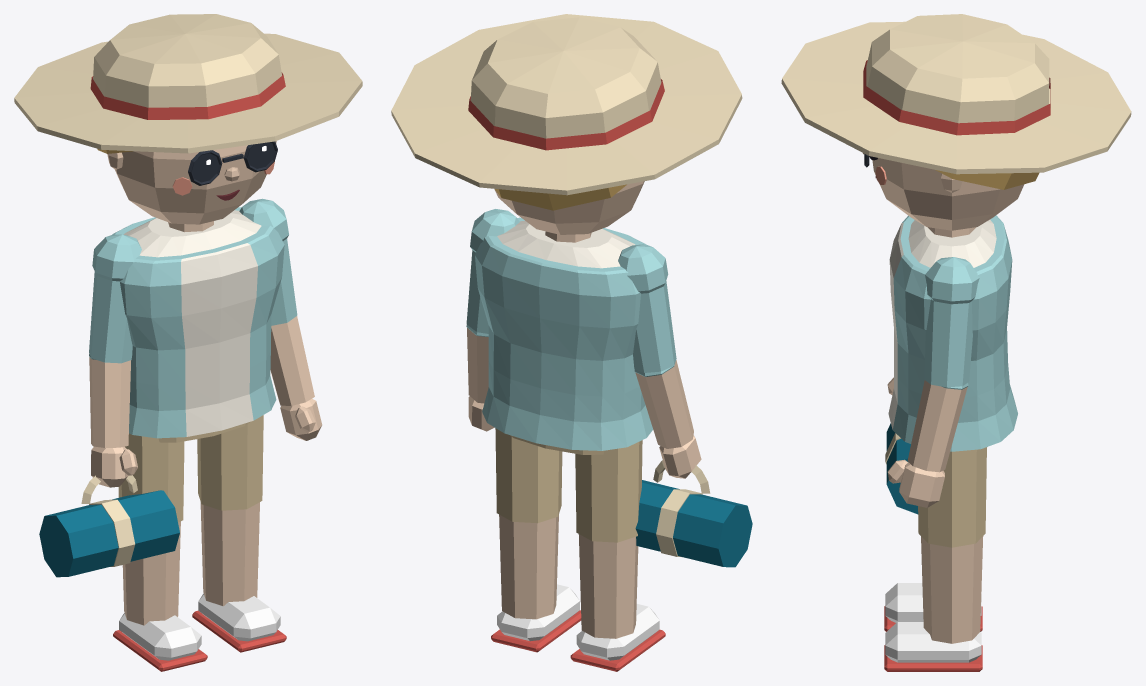
The model's file is pel-k2.glb.
The picture shows the model from 3 angles, left to right: view 1: azimuth 30°, elevation 25°; view 2: azimuth 150°, elevation 25°; view 3: azimuth 270°, elevation 25°; orthographic projection.
Parts seen in each view (by area): view 1: kopfbedeckung, jacke, bein_l, gegenstand_travelbag, arm_r, kopf, bein_r, arm_l, schuh_l, schuh_r, torso, gesicht (+2 smaller); view 2: kopfbedeckung, jacke, bein_r, bein_l, arm_r, gegenstand_travelbag, arm_l, torso, kopf, schuh_r, schuh_l, haare (+1 smaller); view 3: kopfbedeckung, jacke, bein_l, arm_l, kopf, schuh_l, torso, hand_l, schuh_r, gegenstand_travelbag, haare.
Part boxes in pixels (x1=…): kopfbedeckung: x1=14, y1=14, x2=362, y2=153; jacke: x1=112, y1=207, x2=284, y2=438; bein_l: x1=197, y1=415, x2=263, y2=606; gegenstand_travelbag: x1=39, y1=475, x2=179, y2=577; arm_r: x1=89, y1=234, x2=141, y2=447; kopf: x1=107, y1=141, x2=276, y2=224; bein_r: x1=118, y1=433, x2=184, y2=625; arm_l: x1=239, y1=198, x2=314, y2=405; schuh_l: x1=192, y1=593, x2=286, y2=652; schuh_r: x1=113, y1=613, x2=207, y2=671; torso: x1=124, y1=210, x2=261, y2=257; gesicht: x1=172, y1=141, x2=277, y2=200; kopfbedeckung: x1=391, y1=14, x2=742, y2=195; jacke: x1=475, y1=217, x2=652, y2=450; bein_r: x1=575, y1=440, x2=642, y2=638; bein_l: x1=495, y1=428, x2=562, y2=619; arm_r: x1=618, y1=244, x2=693, y2=448; gegenstand_travelbag: x1=635, y1=460, x2=752, y2=567; arm_l: x1=466, y1=209, x2=519, y2=403; torso: x1=497, y1=220, x2=635, y2=268; kopf: x1=495, y1=181, x2=644, y2=234; schuh_r: x1=570, y1=604, x2=665, y2=671; schuh_l: x1=491, y1=584, x2=581, y2=652; haare: x1=494, y1=184, x2=626, y2=210; kopfbedeckung: x1=781, y1=14, x2=1131, y2=174; jacke: x1=888, y1=215, x2=1017, y2=451; bein_l: x1=918, y1=447, x2=986, y2=643; arm_l: x1=907, y1=257, x2=979, y2=472; kopf: x1=872, y1=158, x2=1024, y2=230; schuh_l: x1=884, y1=621, x2=982, y2=671; torso: x1=908, y1=219, x2=996, y2=267; hand_l: x1=887, y1=459, x2=944, y2=507; schuh_r: x1=884, y1=583, x2=982, y2=631; gegenstand_travelbag: x1=885, y1=423, x2=918, y2=514; haare: x1=935, y1=170, x2=1039, y2=189.
Bounding box in the file's own units: 0.0147 × 0.0278 × 0.0146.
